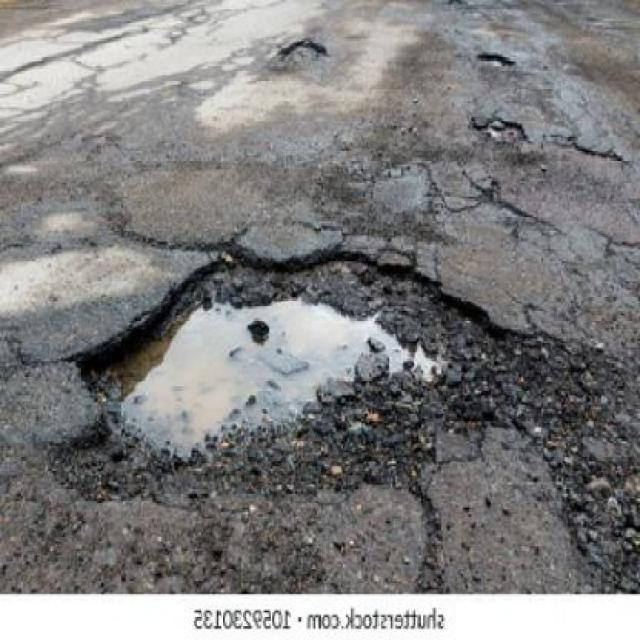Pothole: (38, 228, 640, 572), (469, 111, 530, 147), (276, 38, 328, 69), (475, 49, 521, 72)
